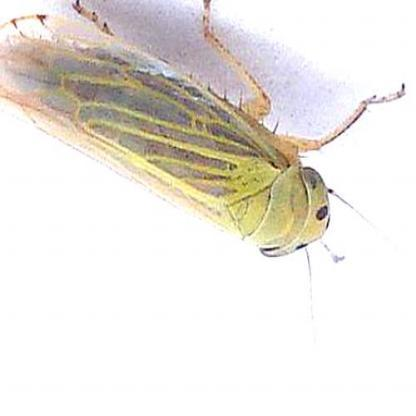green-leafhopper: (1, 13, 343, 260)
